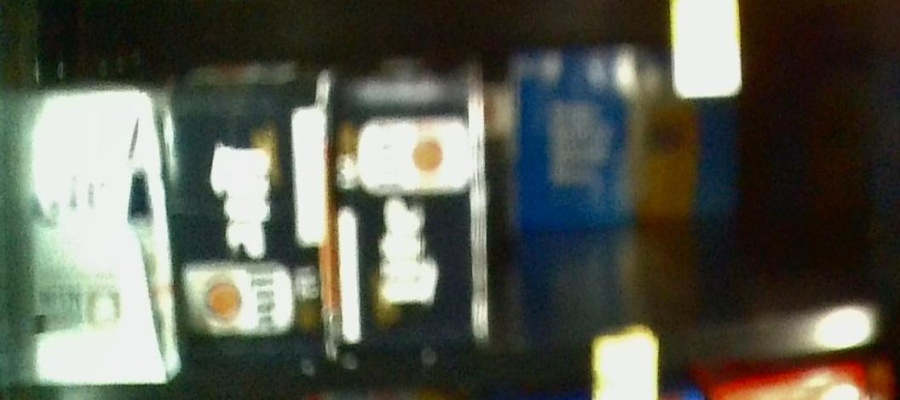bottle: (1, 89, 177, 384), (167, 73, 332, 355), (335, 73, 489, 344), (514, 52, 741, 218)
